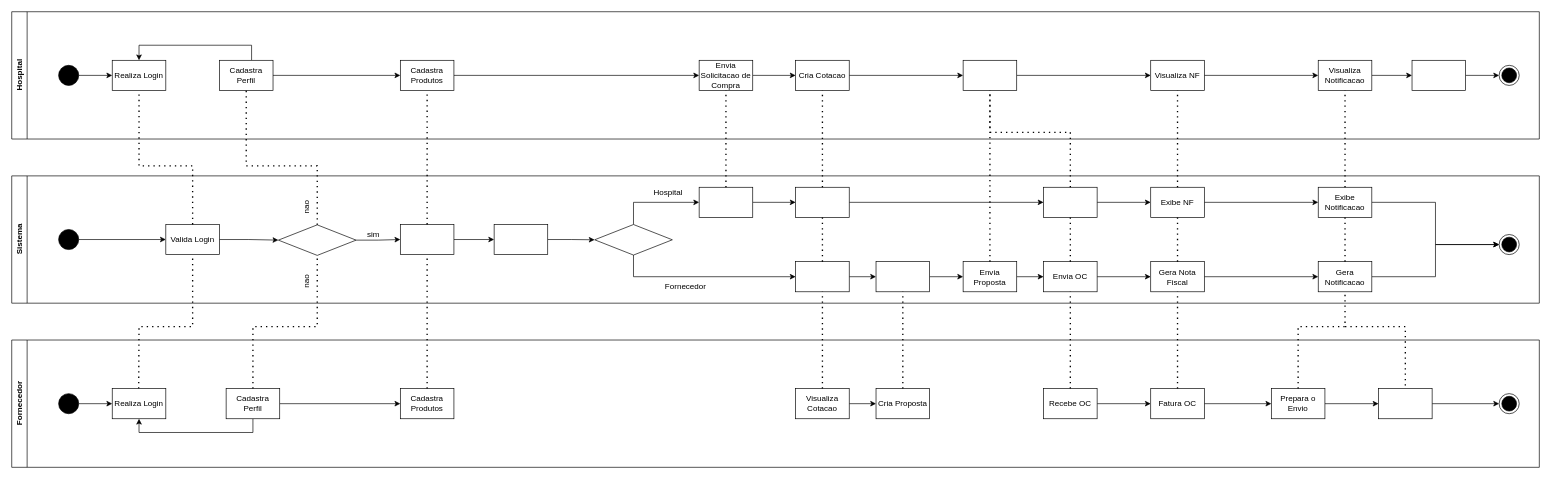
Image size: 1551x479. Some labels were removed from this diagram. The box of each missing label's shape, as (x1, y1, x2, y2) in pixels:
Aprova Proposta: (962, 60, 1017, 90)
Envia o Produto: (1378, 388, 1432, 419)
Exibe Cotacao: (795, 261, 849, 292)
Gera Cotacao: (795, 187, 849, 217)
Gera OC: (1043, 187, 1097, 217)
Gera Proposta: (875, 261, 930, 292)
Identifica Perfil: (493, 224, 548, 255)
Login Existe?: (278, 224, 356, 255)
Recebe o produto: (1411, 60, 1466, 90)
Registra Produtos: (400, 224, 454, 255)
Registra SC: (698, 187, 753, 217)
Tipo de Perfil?: (594, 224, 672, 255)
